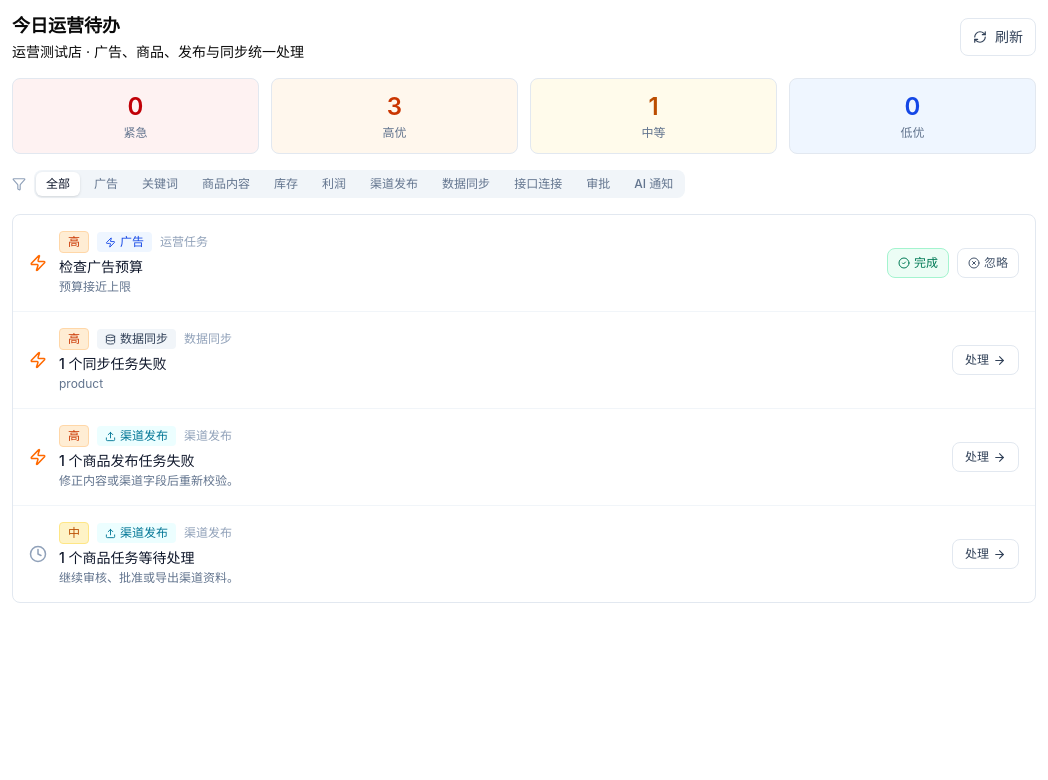
TodayActionsPage unified operations queue › only exposes direct completion controls for real operation tasks
Expected: the text "检查广告预算" is shown, [59,258,143,275]
Expected: the text "1 个商品发布任务失败" is shown, [59,452,194,469]
Click the button "完成". click: (918, 263)
box: [887,248,949,278]
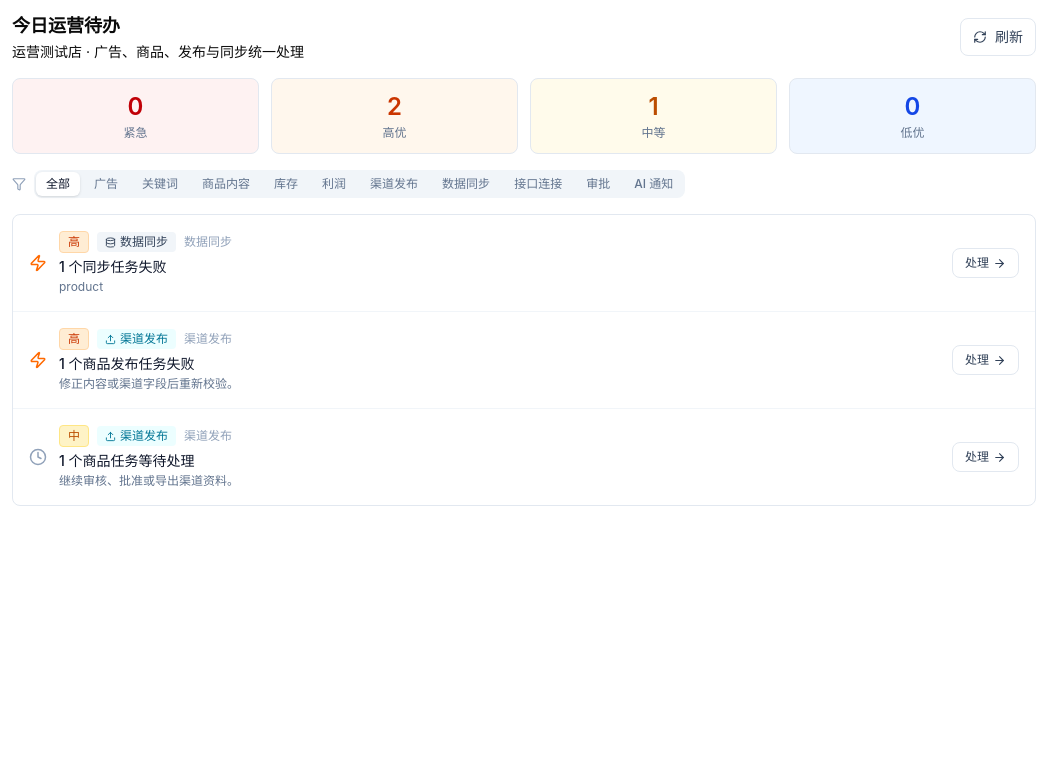
Expected: the heading "检查广告预算" is gone
